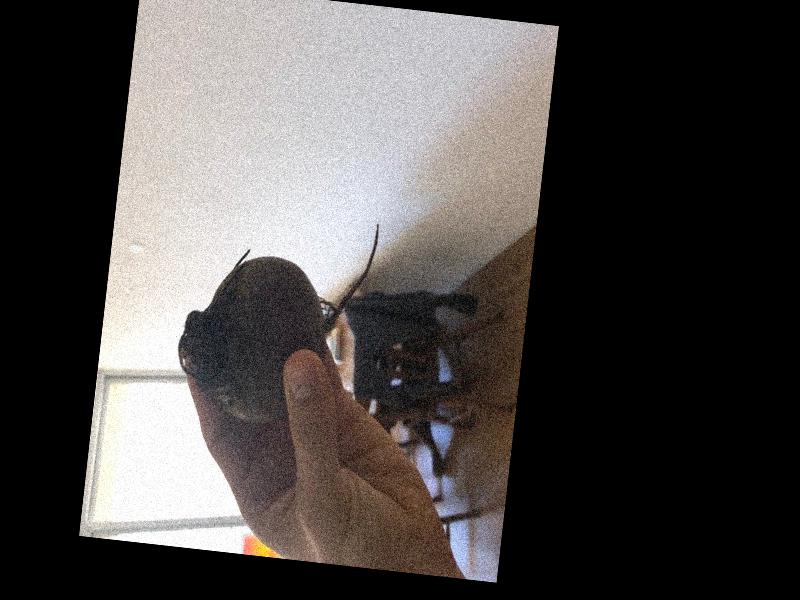Beet: (170, 201, 379, 433)
